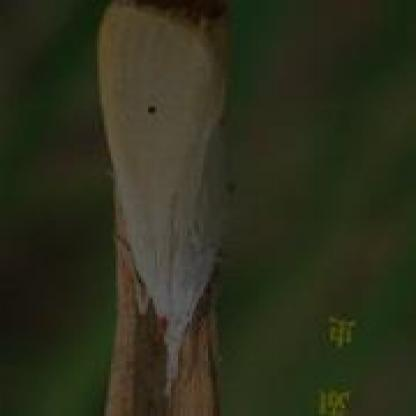stem-borer: (94, 0, 236, 403)
